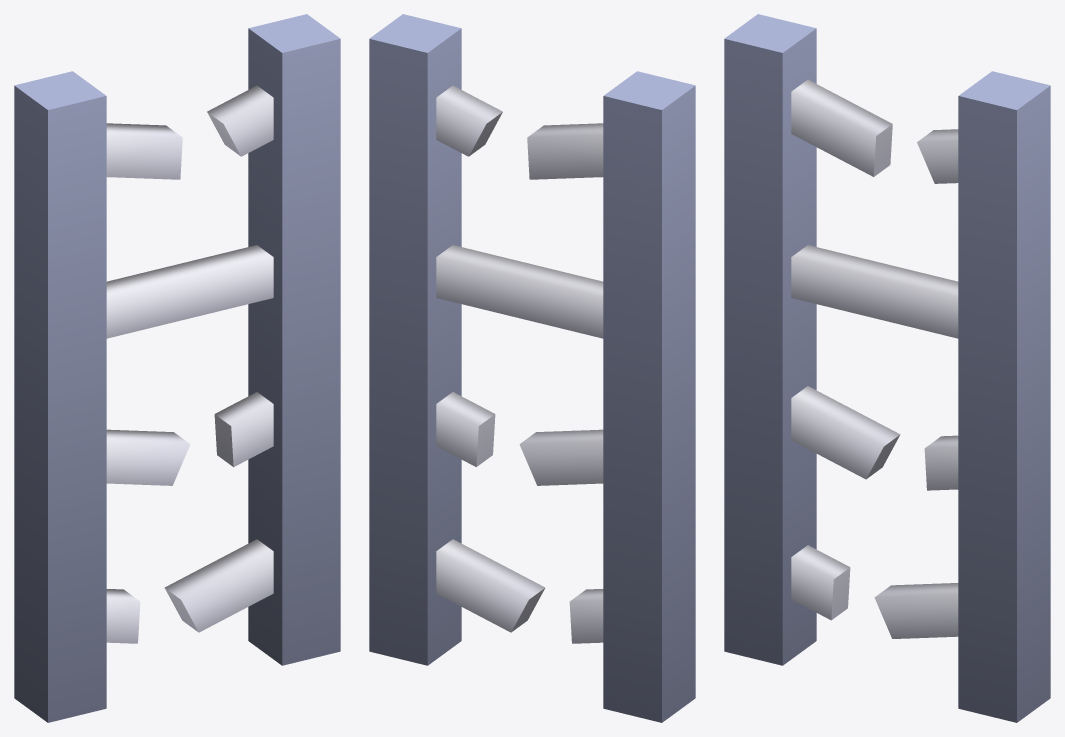
File: ladder-broken.glb
3 views of the same model, side by side, from view 1: azimuth 30°, elevation 25°; view 2: azimuth 150°, elevation 25°; view 3: azimuth 330°, elevation 25° (orthographic).
Visible parts, largest first — view 1: ladder-broken; view 2: ladder-broken; view 3: ladder-broken.
Boxes of the visible parts, left/top/right/bottom form: ladder-broken: left=14, top=14, right=340, bottom=722; ladder-broken: left=369, top=14, right=695, bottom=722; ladder-broken: left=724, top=14, right=1050, bottom=722.
Bounding box in the file's own units: 0.5 × 1 × 0.1.
